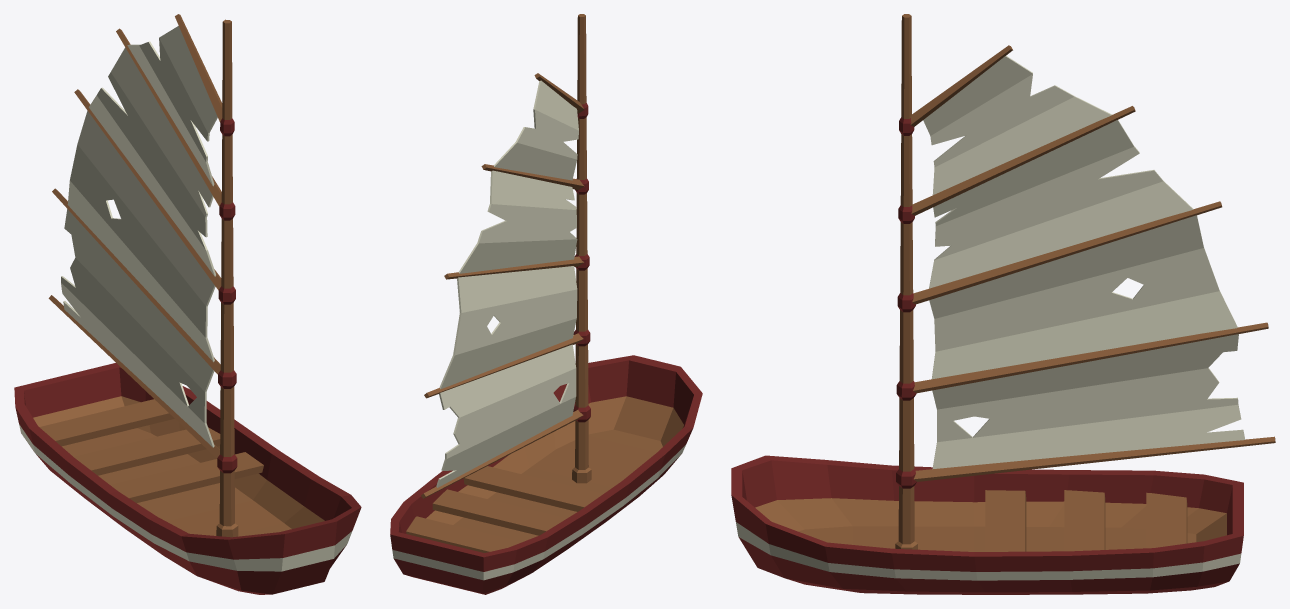
Rendered from ChineseSailboat.fbx.
3 renders of one model, left to right at view 1: azimuth 30°, elevation 25°; view 2: azimuth 150°, elevation 25°; view 3: azimuth 270°, elevation 25°, orthographic. The views are drawn at different scales.
Visible parts, largest first — view 1: ChineseSailboat; view 2: ChineseSailboat; view 3: ChineseSailboat.
Part boxes in pixels (box(x1,y1,x2,y2)): ChineseSailboat: box(14, 14, 361, 594); ChineseSailboat: box(390, 14, 702, 594); ChineseSailboat: box(731, 14, 1275, 594).
Bounding box in the file's own units: 137 × 401 × 359.
